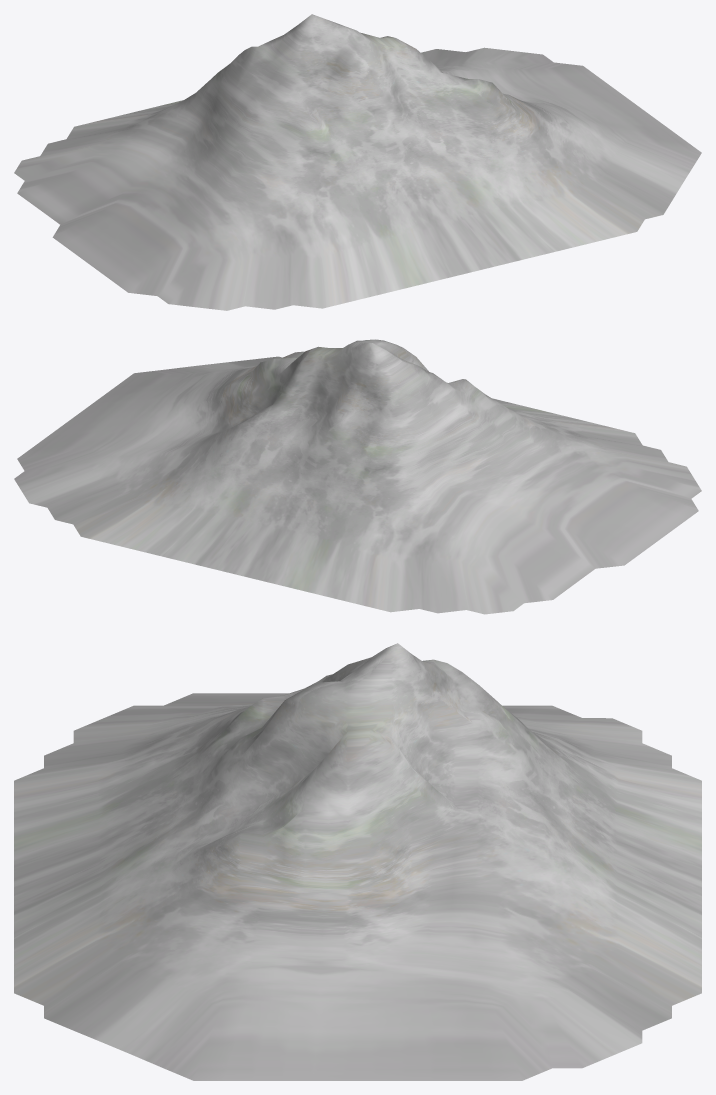
File: P_Mountain04.obj
The picture shows the model from 3 angles, top to bottom: view 1: azimuth 30°, elevation 25°; view 2: azimuth 150°, elevation 25°; view 3: azimuth 270°, elevation 25°; orthographic projection. The views are drawn at different scales.
Bounding box in the file's own units: 3410 × 919 × 2557.
